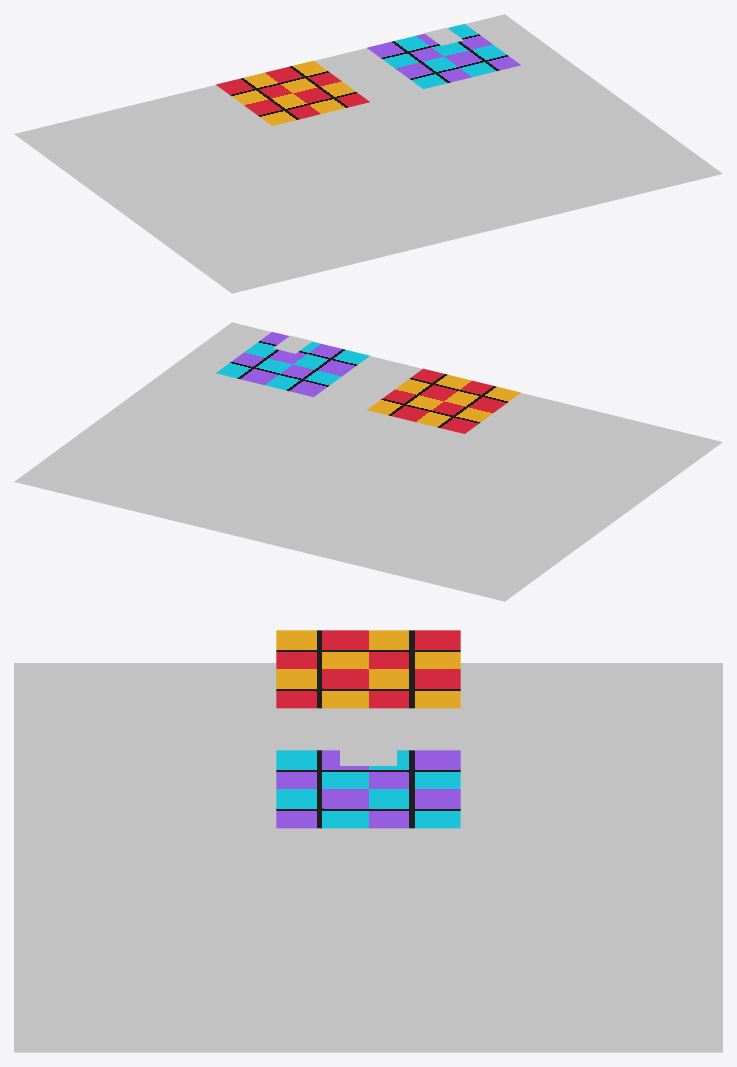
Rendered from DirectionalTransmissionTest.gltf.
3 views of the same model, one above another, from view 1: azimuth 30°, elevation 25°; view 2: azimuth 150°, elevation 25°; view 3: azimuth 270°, elevation 25° (orthographic). The views are drawn at different scales.
Bounding box in the file's own units: 13 × 2.5 × 10.
Materials: 3 (2 with a texture image).
